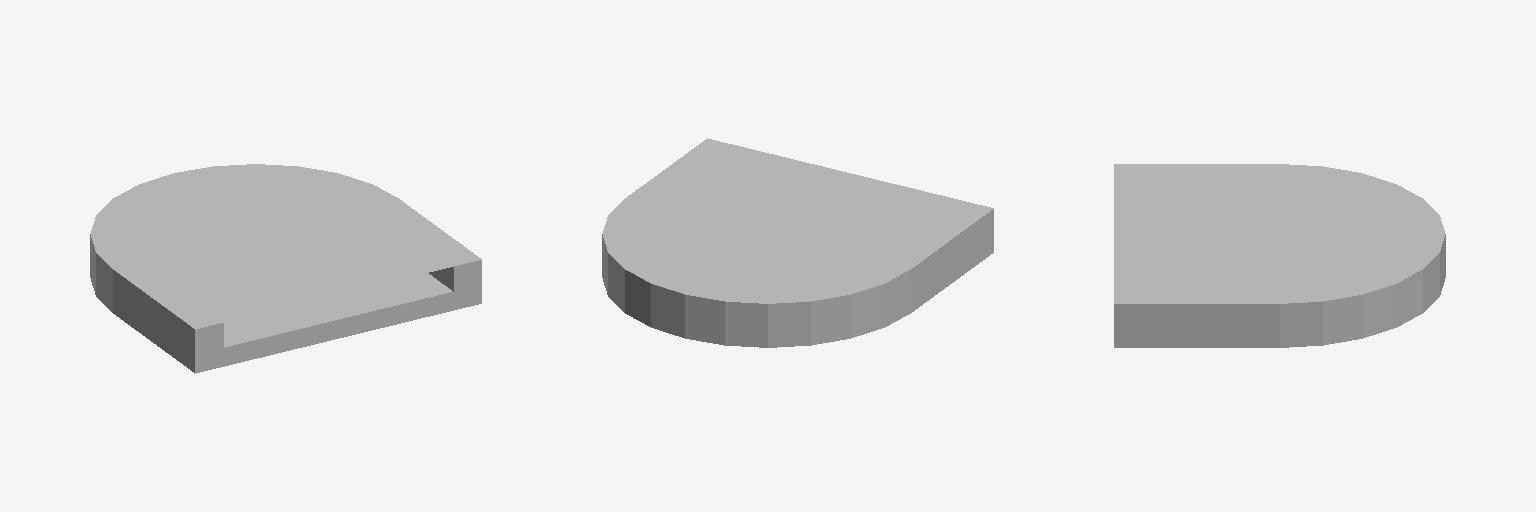
The model's file is Hole_round_01.obj.
The picture shows the model from 3 angles: view 1: azimuth 30°, elevation 25°; view 2: azimuth 150°, elevation 25°; view 3: azimuth 270°, elevation 25°; orthographic projection.
Parts seen in each view (by area): view 1: Mesh1 Hole_round Model; view 2: Mesh1 Hole_round Model; view 3: Mesh1 Hole_round Model.
Boxes of the visible parts, <box> form: Mesh1 Hole_round Model: <box>90,164,481,373</box>; Mesh1 Hole_round Model: <box>602,138,993,347</box>; Mesh1 Hole_round Model: <box>1114,164,1445,347</box>.
Bounding box in the file's own units: 3 × 0.44 × 3.